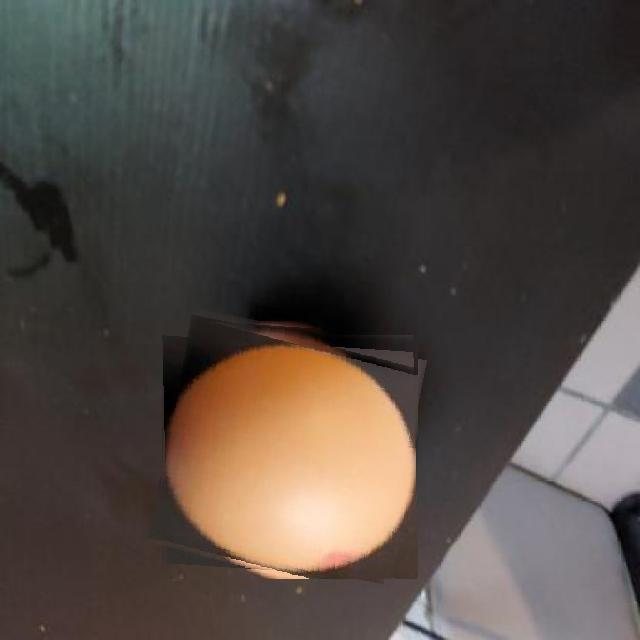biodegradable: (157, 318, 418, 579)
